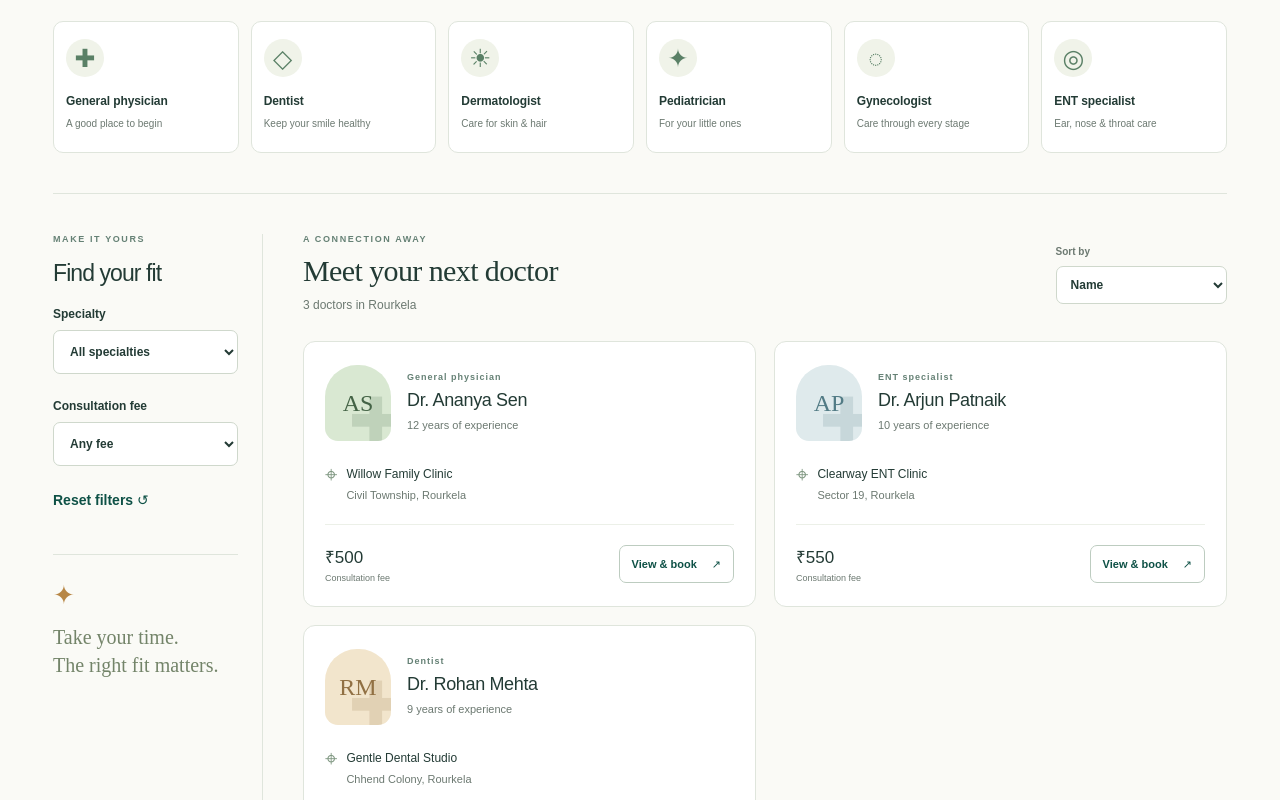
visitor journey › finds a doctor, books a slot, sees confirmation, and cancels the appointment
(page scrolled)
Click the link "Dr. Ananya Sen" at point(467, 400), box [407,390,527,410]
(page scrolled)
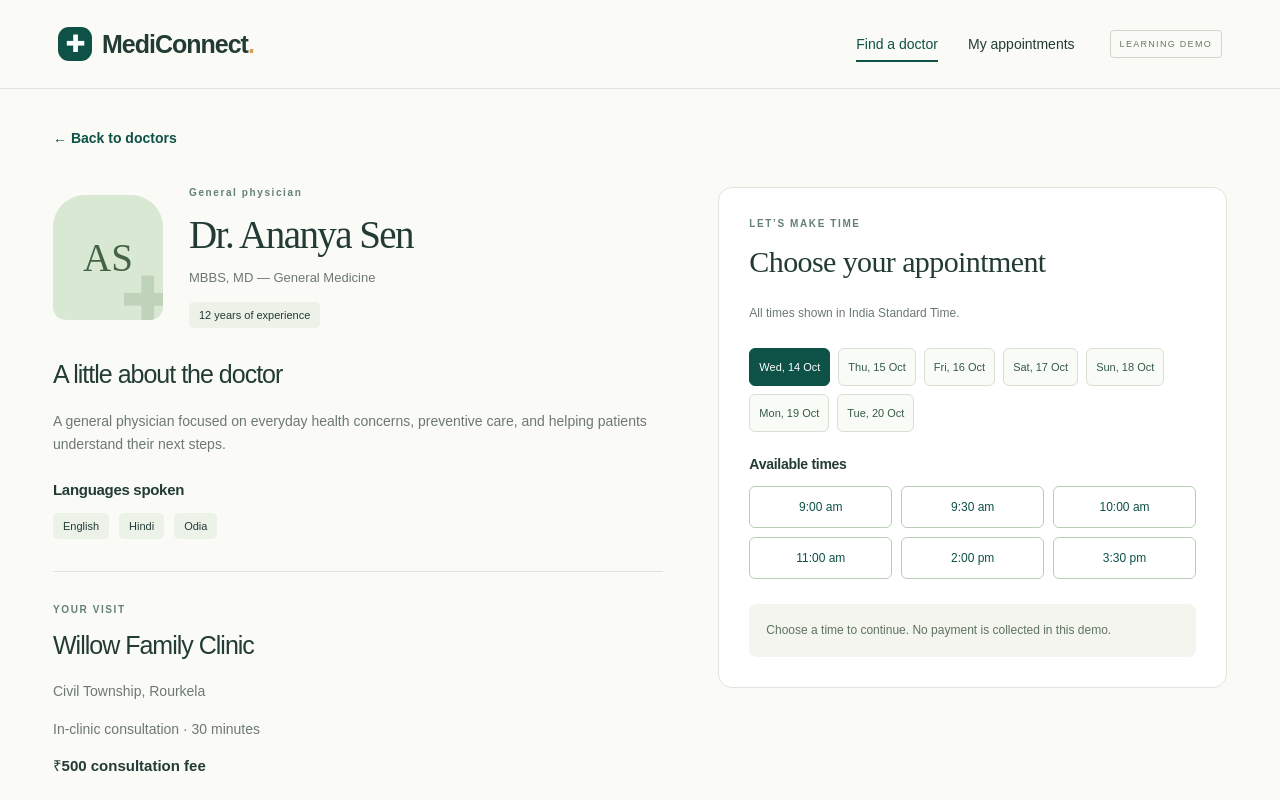
Click the link "9:00 am" at point(821, 507), box [749,486,892,528]
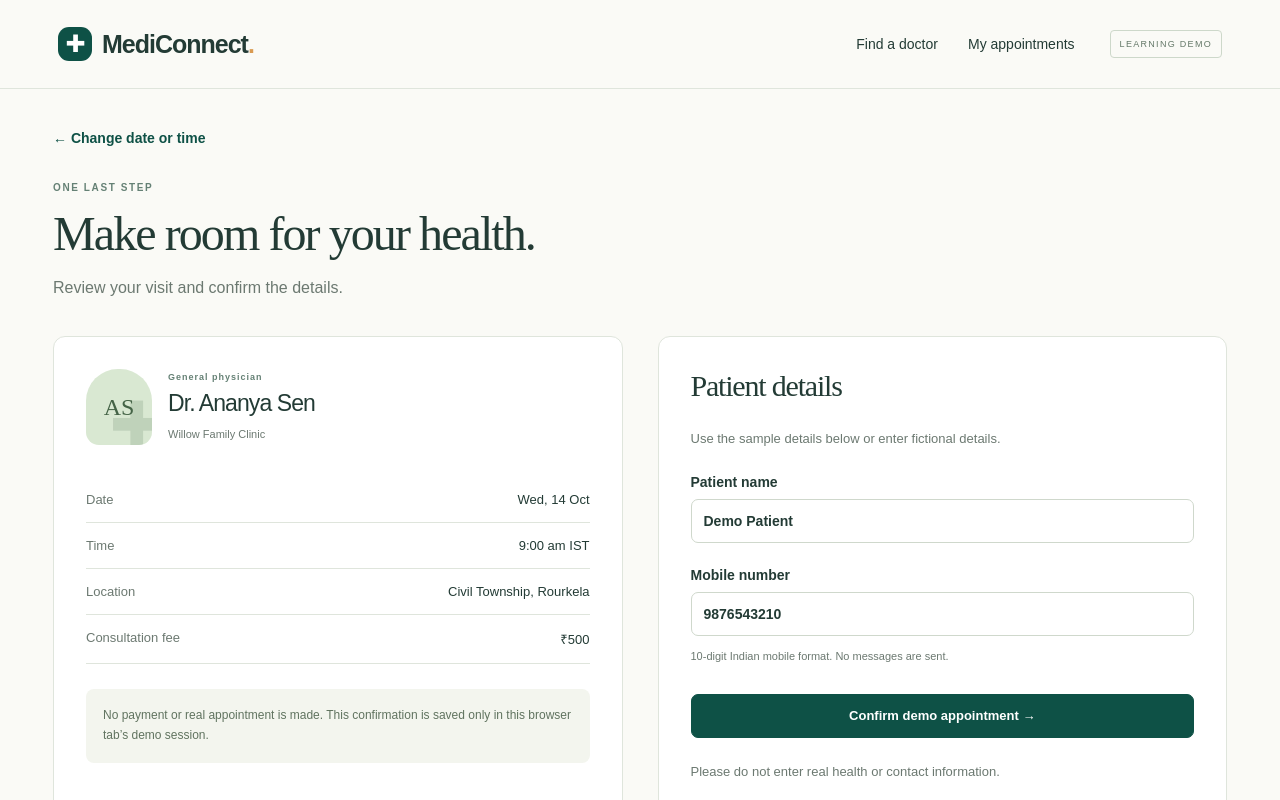
Click the button "Confirm demo appointment →" at point(942, 716), box [690,694,1194,738]
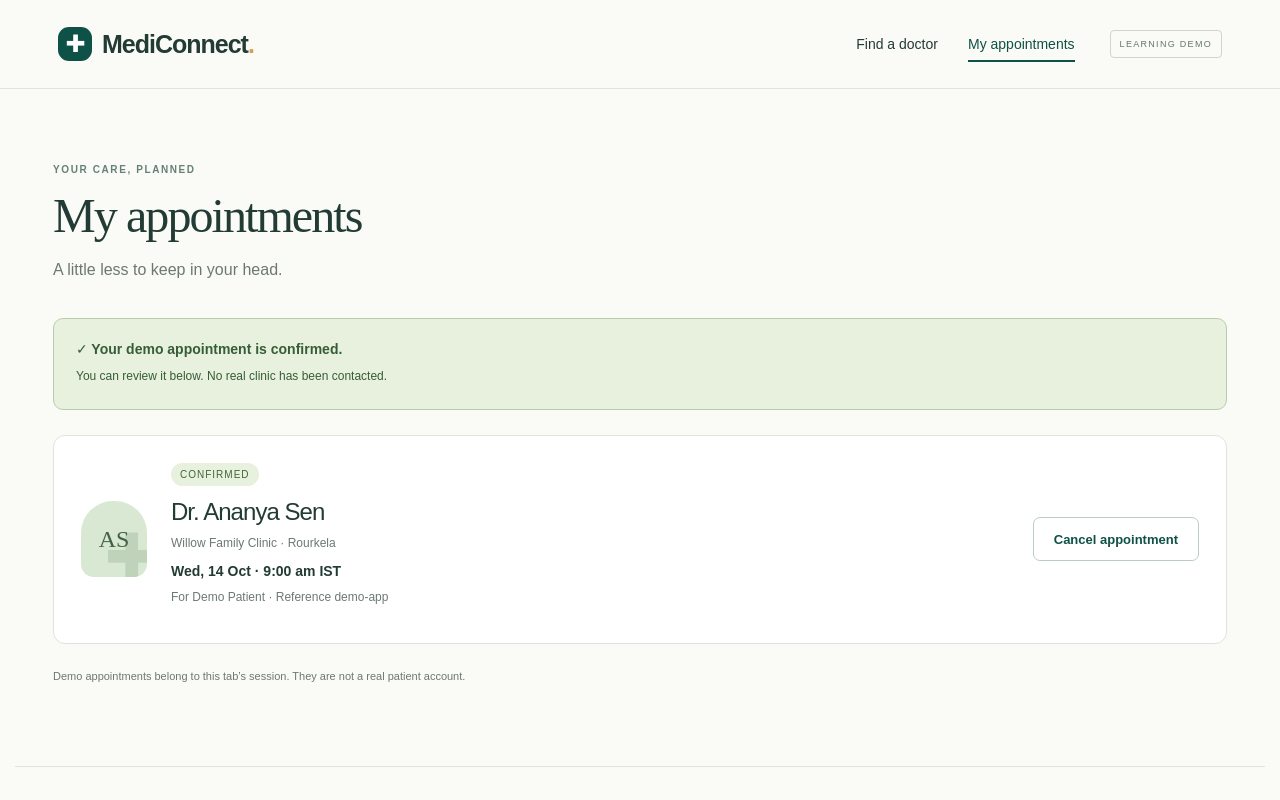
Check: the text "✓ Your demo appointment is confirmed." is shown, box [76,341,342,357]
Click the button "Cancel appointment" at point(1116, 539), box [1033,517,1199,561]
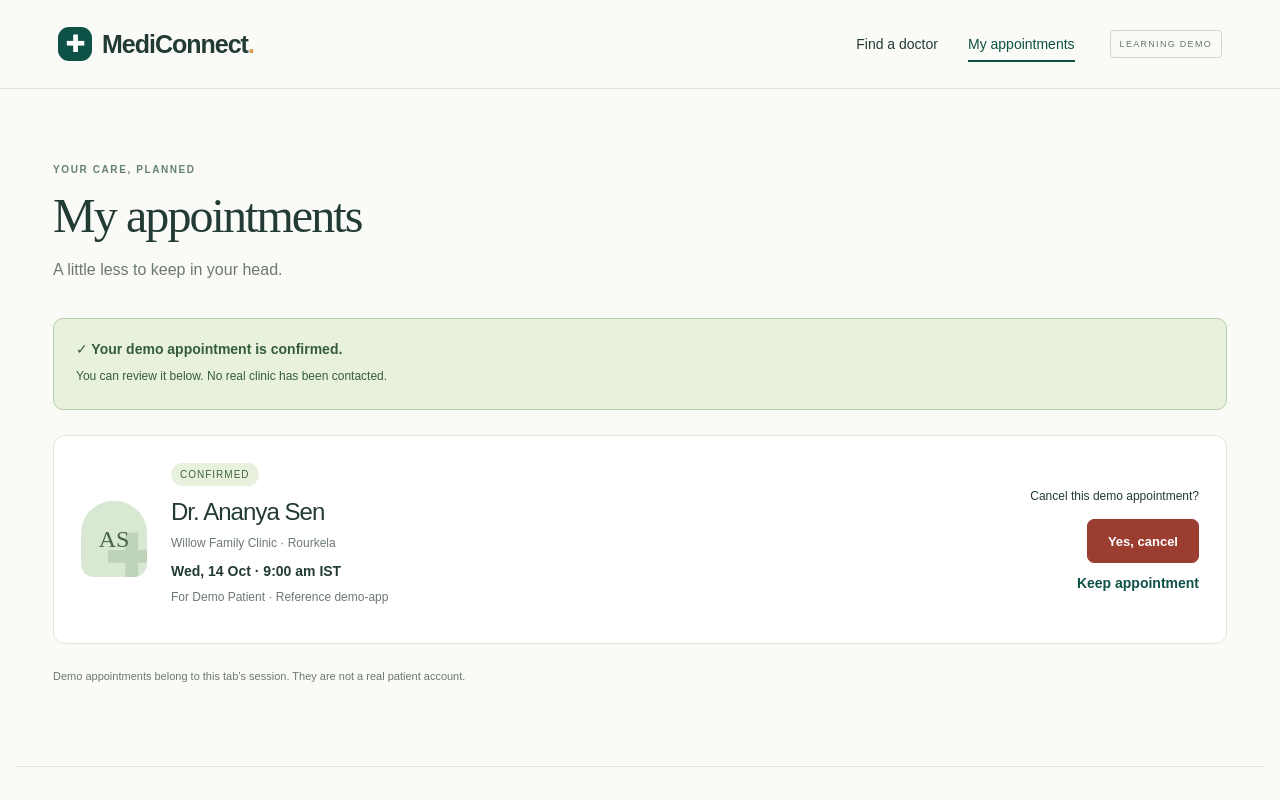
Click the button "Yes, cancel" at point(1143, 541), box [1087,519,1199,563]
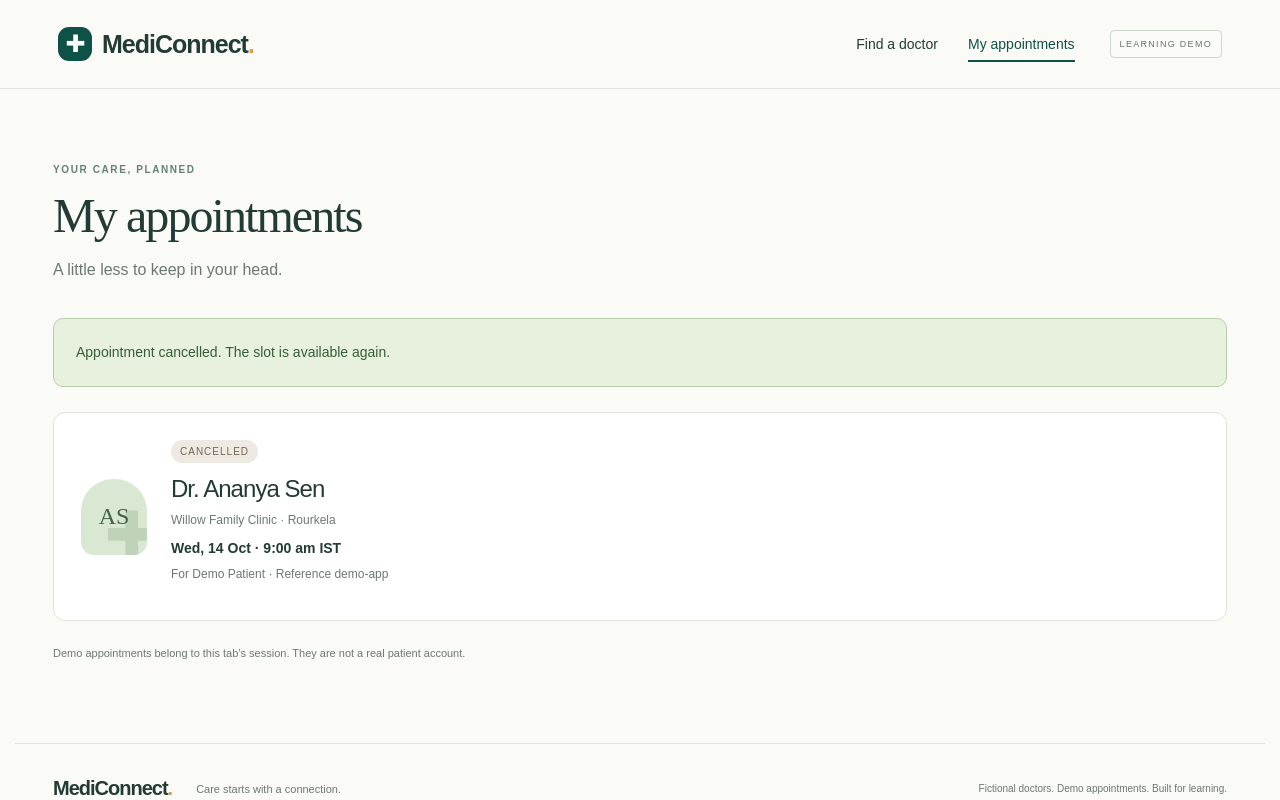
Check: the text "Appointment cancelled. The slot is available again." is shown, box [53,318,1227,387]
